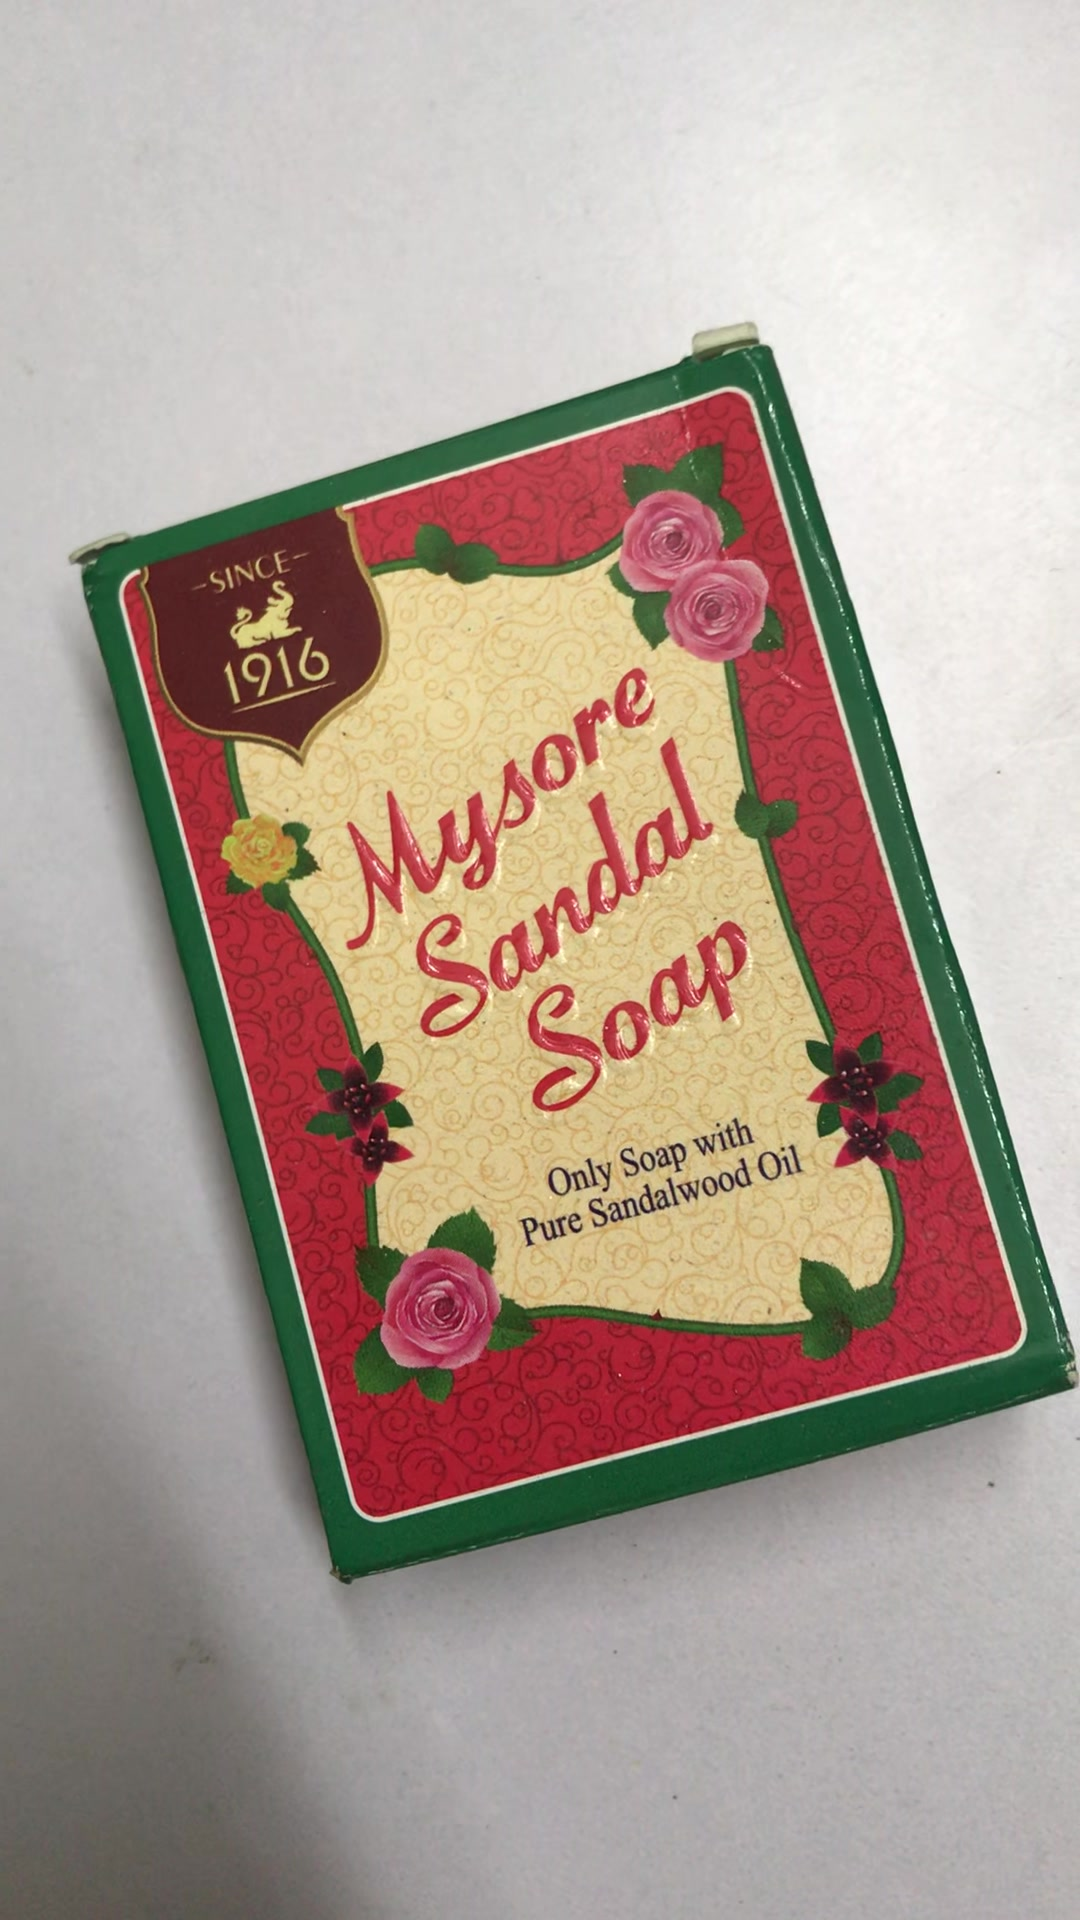mysore sandal soap: (84, 342, 1080, 1578)
